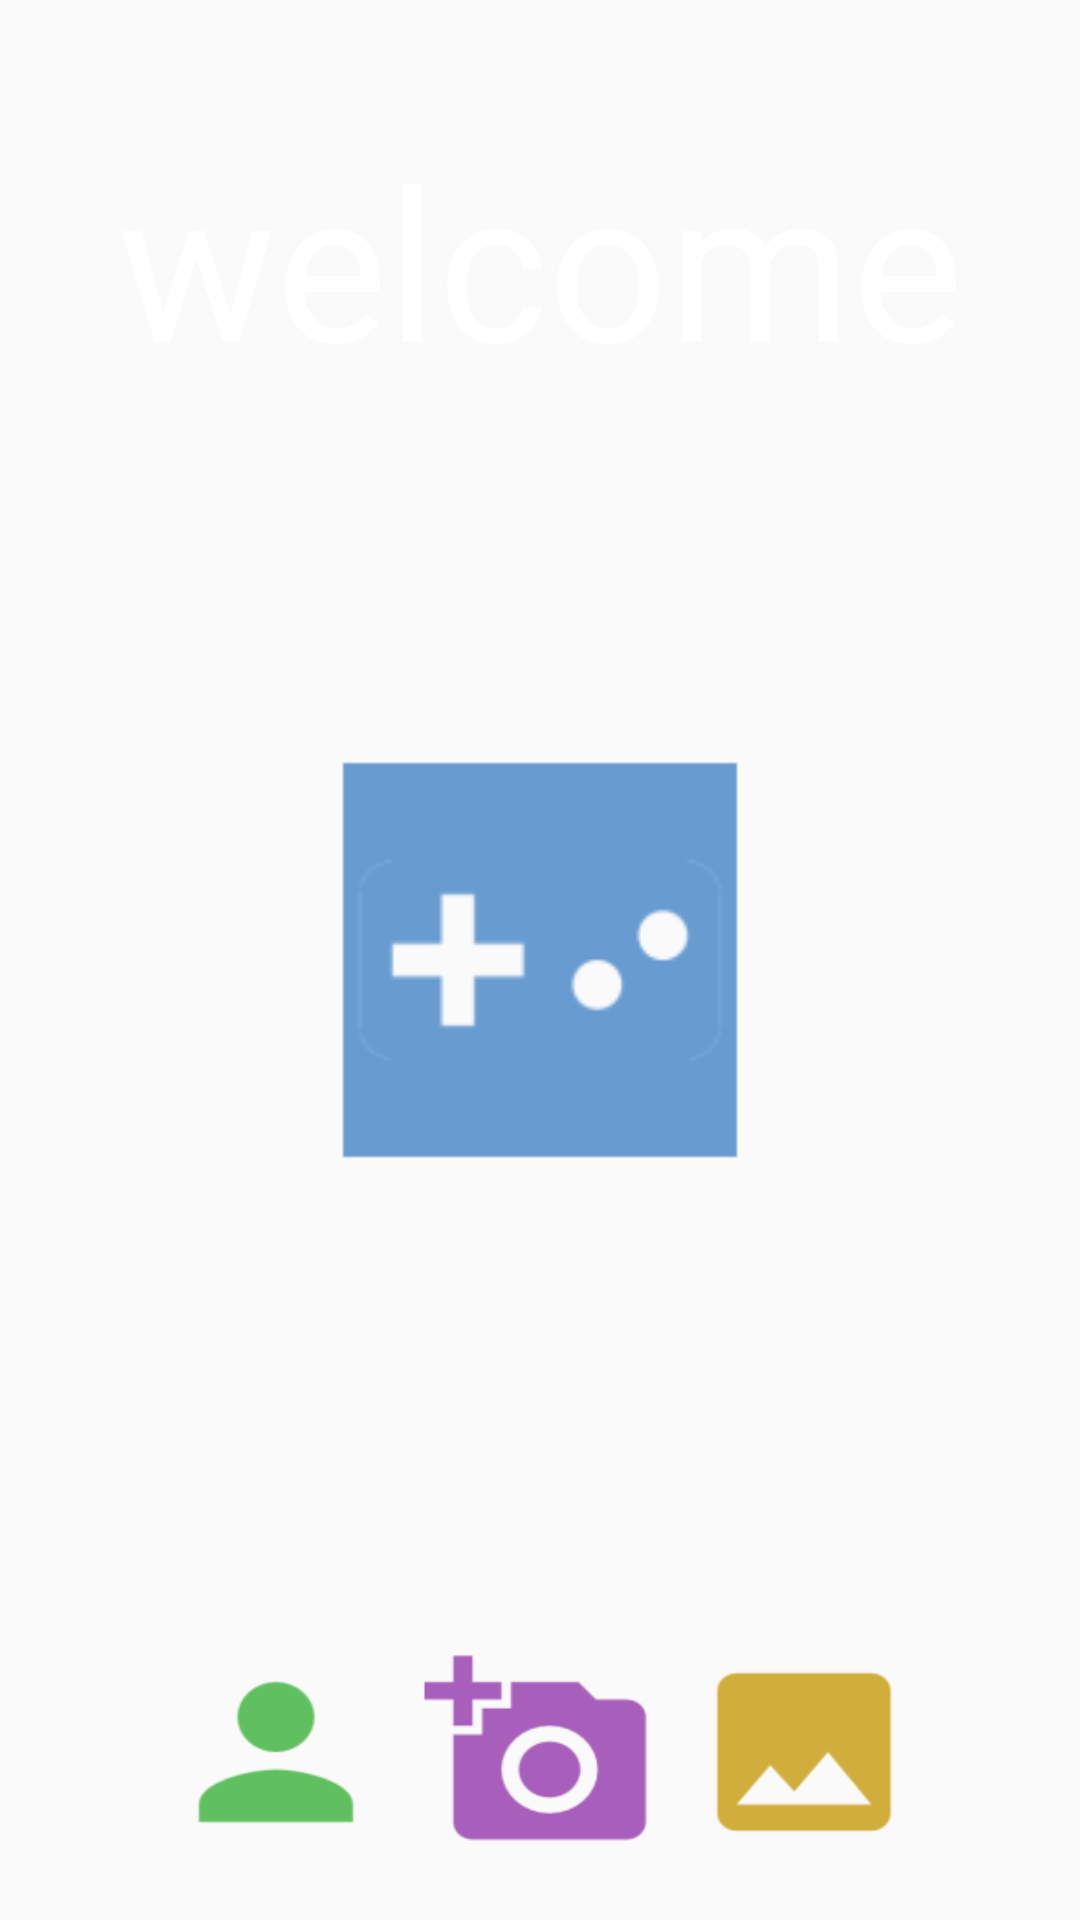

Point at icon controls on the screen. Image size 1080*1920, points as (x=x, y=y).
account: (x=276, y=1752)
cemra: (x=535, y=1748)
gallery: (x=804, y=1752)
